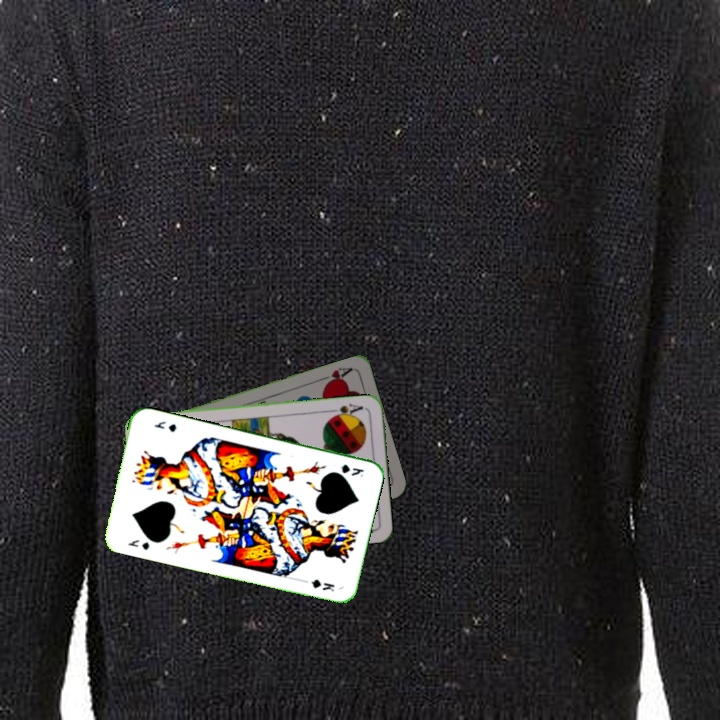GK: (337, 460, 366, 479), (124, 536, 152, 553)
HA: (315, 363, 355, 388)
SA: (327, 400, 366, 420)
